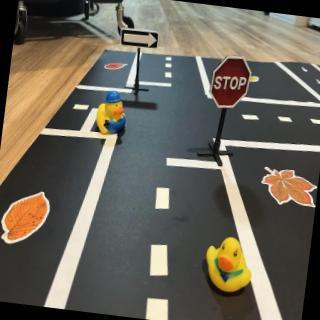duck_regular: (202, 236, 257, 300)
duck_specialty: (96, 91, 130, 138)
sign_oneway_right: (121, 29, 160, 51)
sign_stop: (210, 54, 255, 112)
